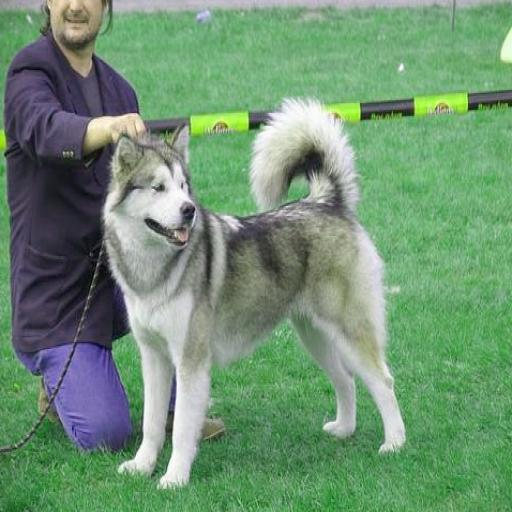dog_face: (111, 125, 203, 255)
